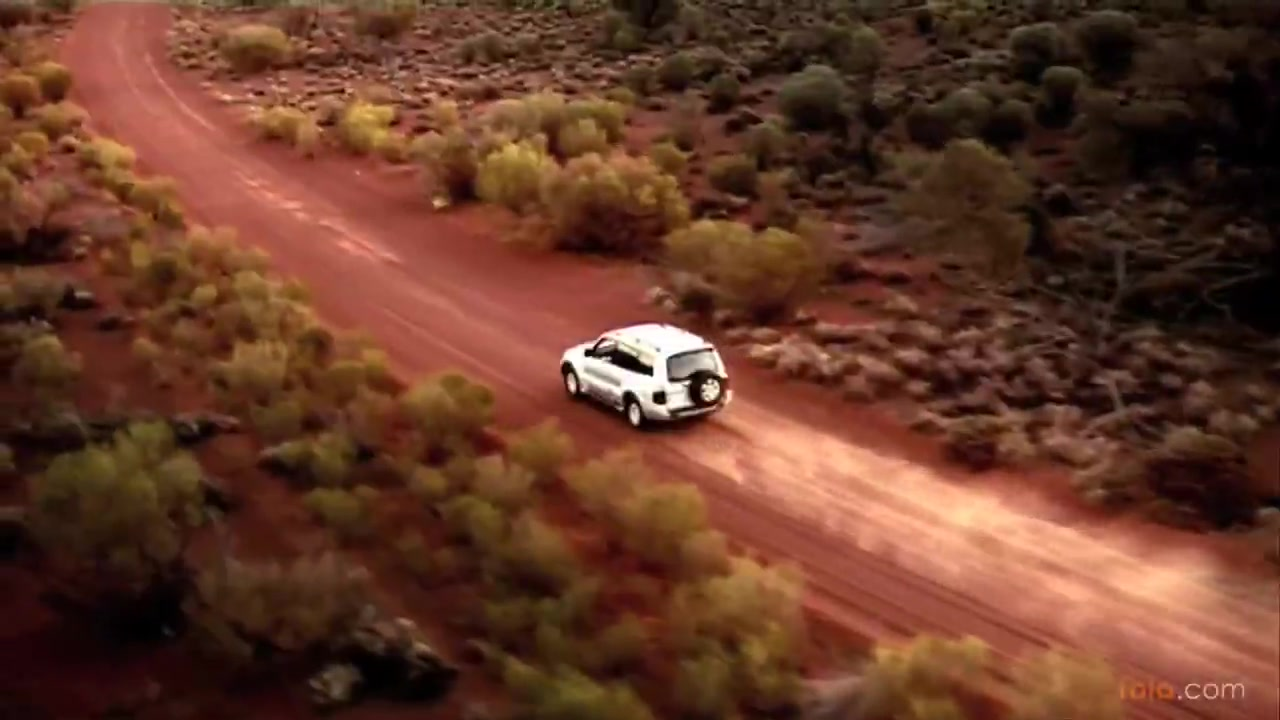car: (555, 316, 736, 433)
